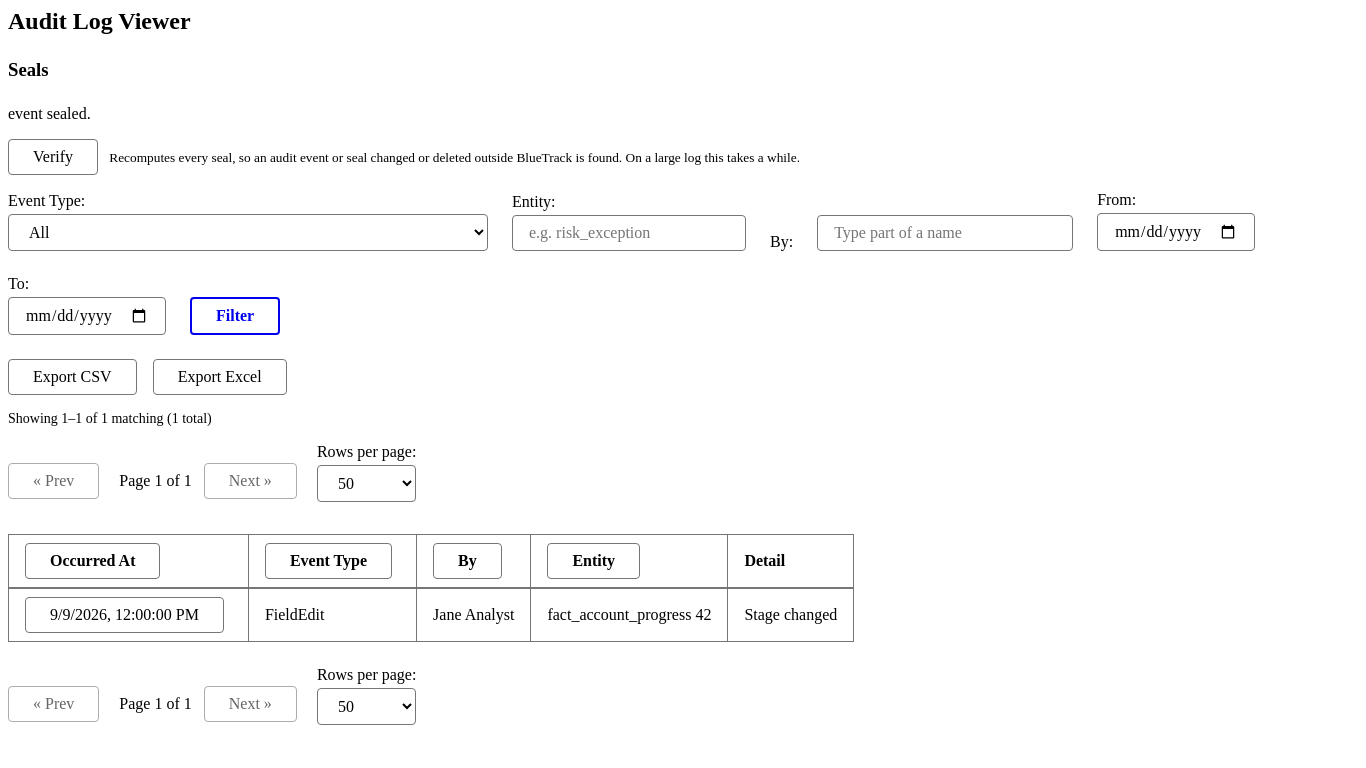
Scenario: AuditLogViewer.vue › field-level changes › shows the changes that were recorded
This screenshot has width=1366, height=768.
Click the button "9/9/2026, 12:00:00 PM" at (124, 615), box [25,597,224,633]
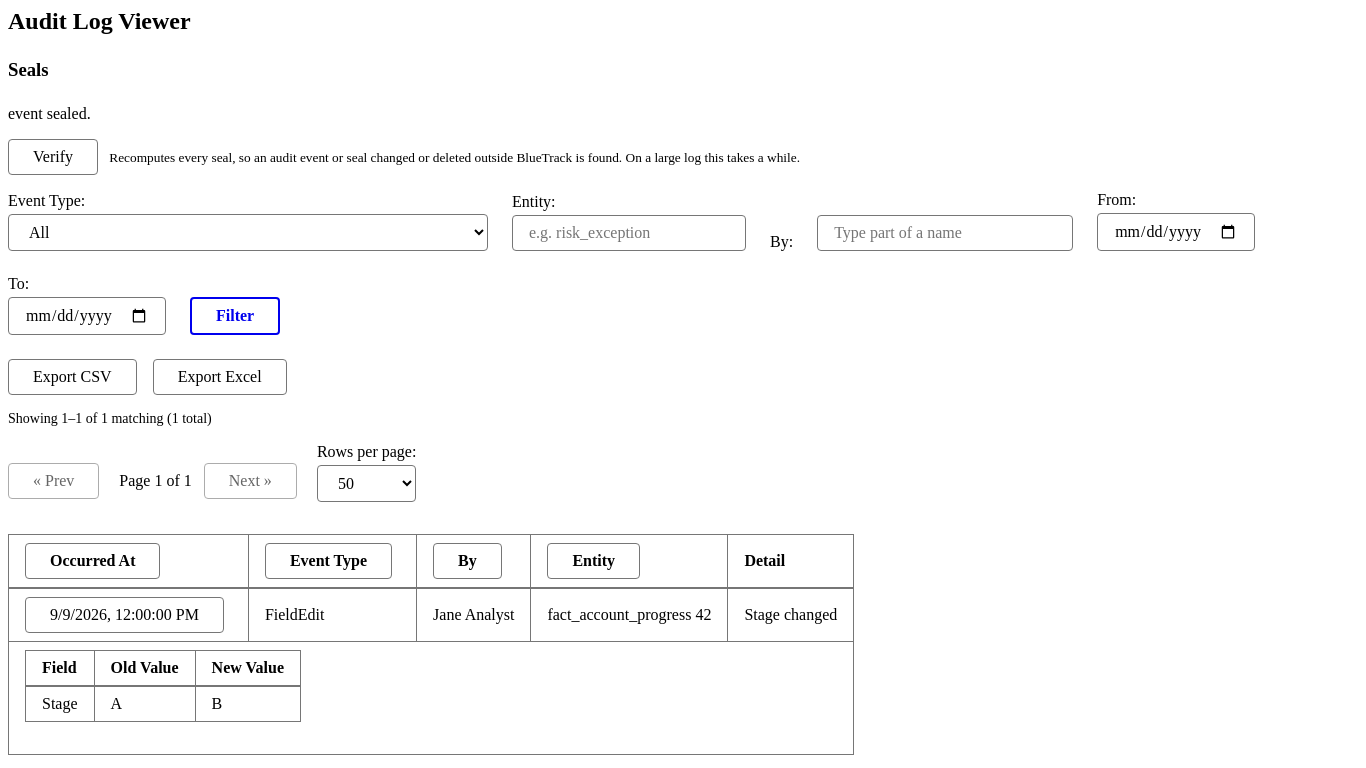
Expected: the row with id "audit-detail-1" shows "Stage", [42,695,78,712]
